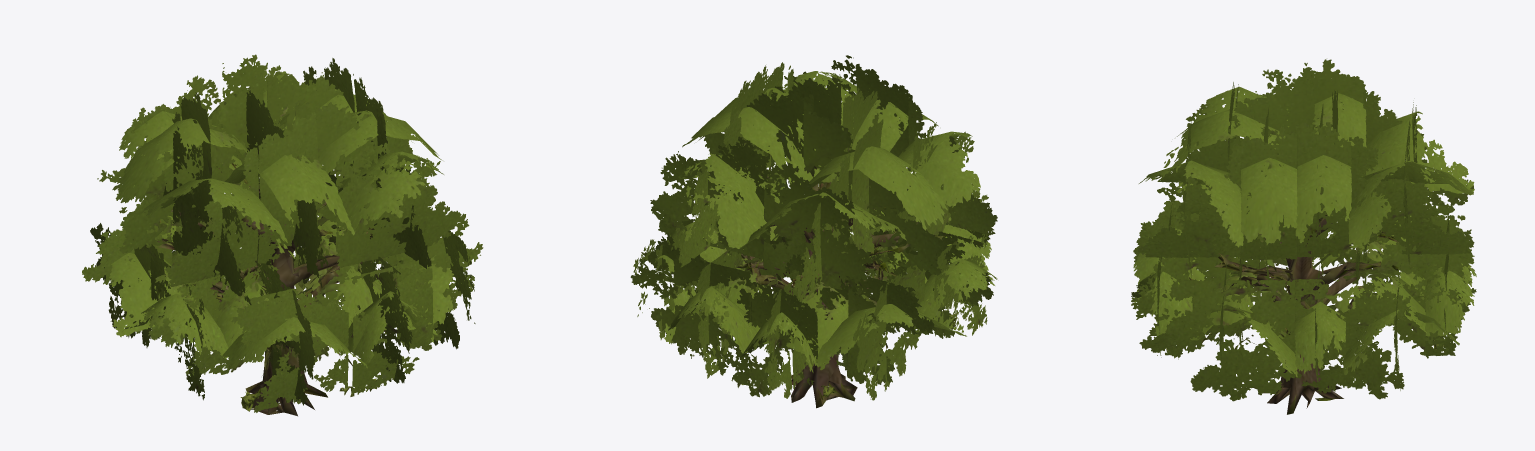
Rendered from oak-elder-mid.glb.
3 views of the same model, side by side, from view 1: azimuth 30°, elevation 25°; view 2: azimuth 150°, elevation 25°; view 3: azimuth 270°, elevation 25° (orthographic). The views are drawn at different scales.
Parts seen in each view (by area): view 1: Foliage, Wood; view 2: Foliage, Wood; view 3: Foliage, Wood.
Part boxes in pixels (box(x1,y1,x2,y2)): Foliage: box(82, 54, 483, 412); Wood: box(155, 163, 390, 416); Foliage: box(630, 55, 997, 400); Wood: box(735, 165, 959, 408); Foliage: box(1131, 59, 1476, 401); Wood: box(1166, 122, 1444, 414).
Bounding box in the file's own units: 14.73 × 12.4 × 15.27.
Materials: 2 (2 with a texture image).
